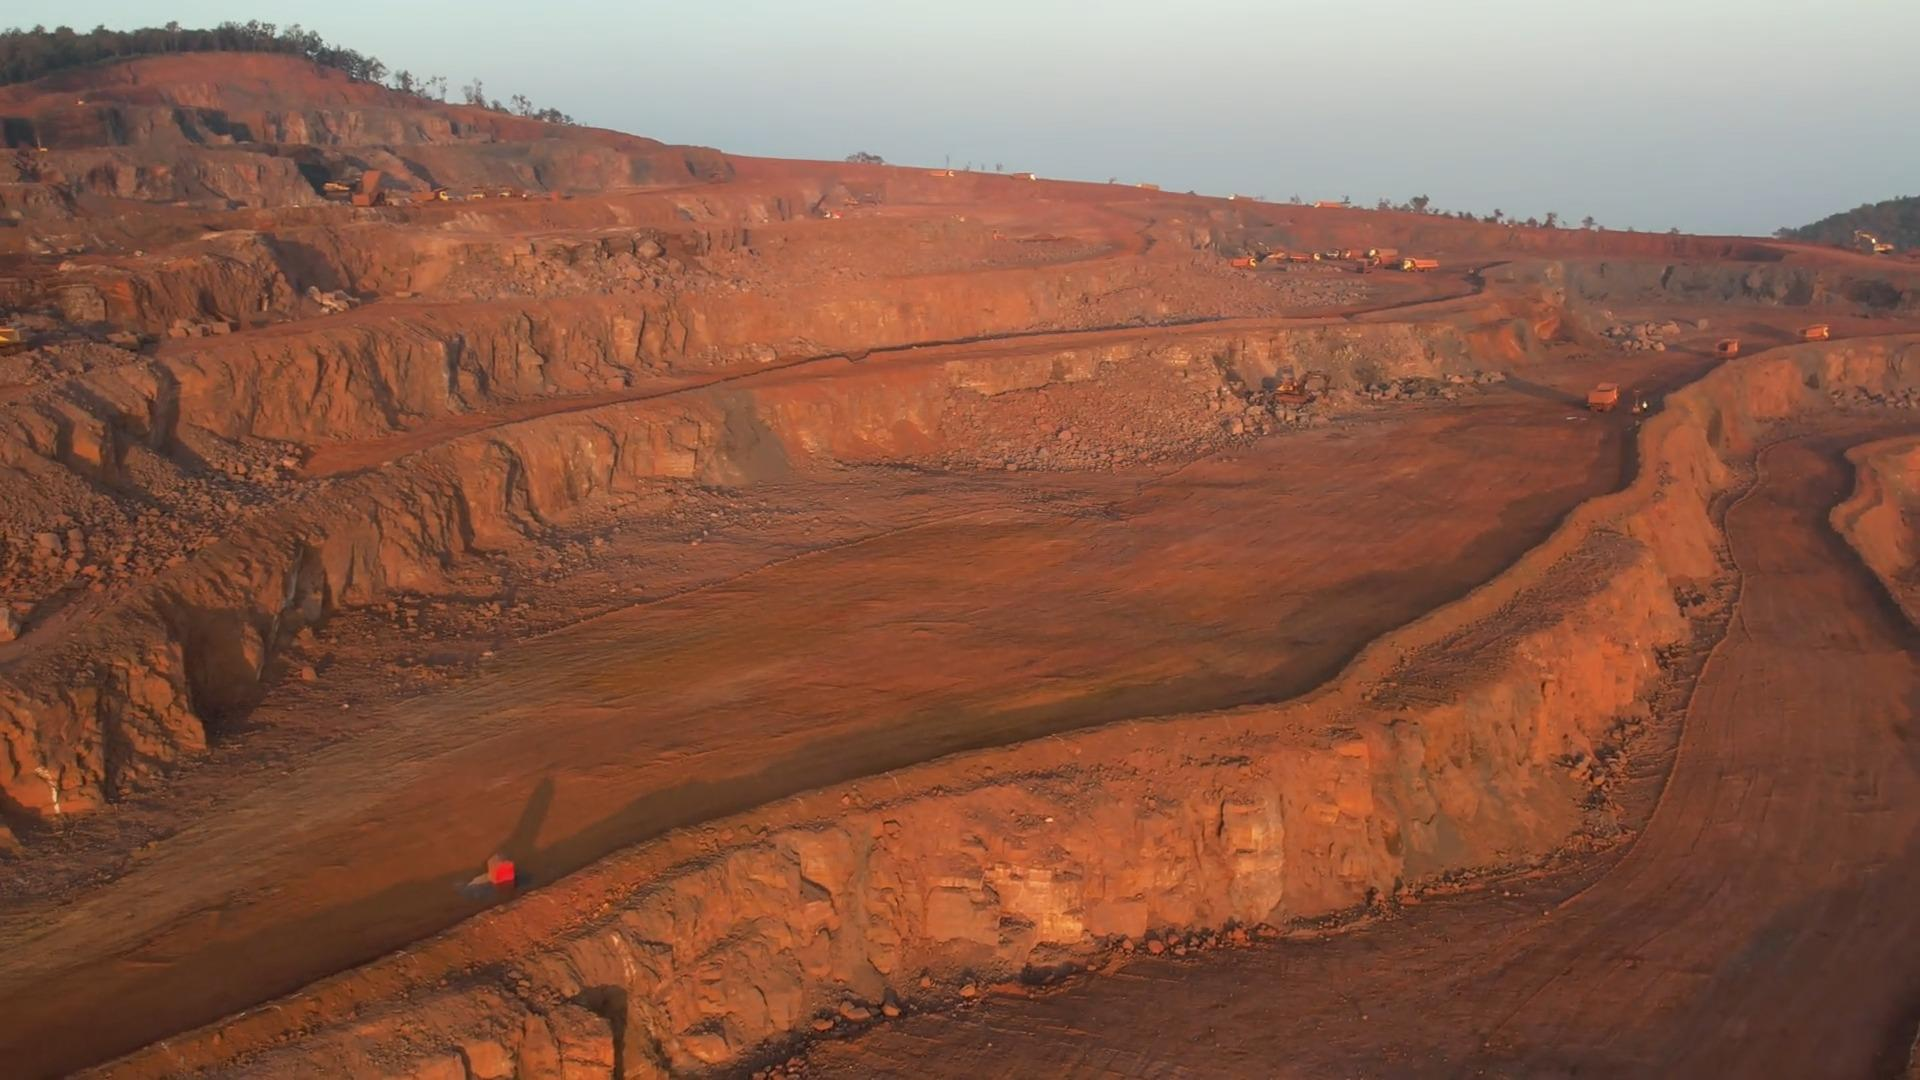excavator: (1278, 372, 1336, 406)
